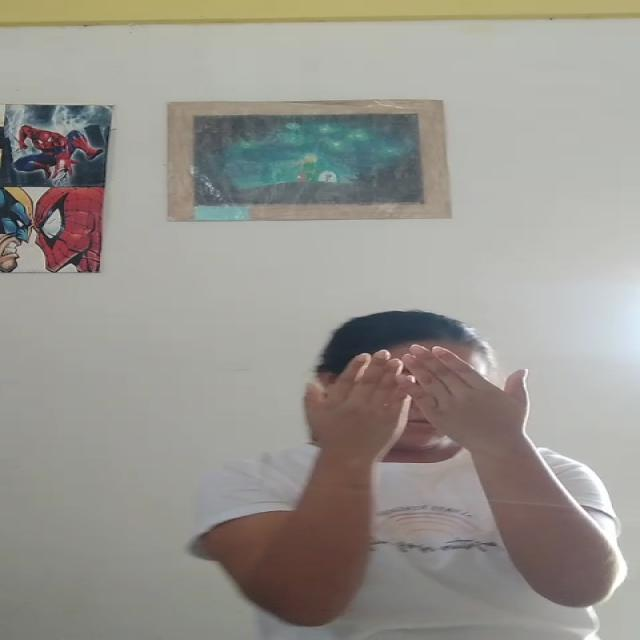7_mano_rostro: (324, 344, 516, 499)
